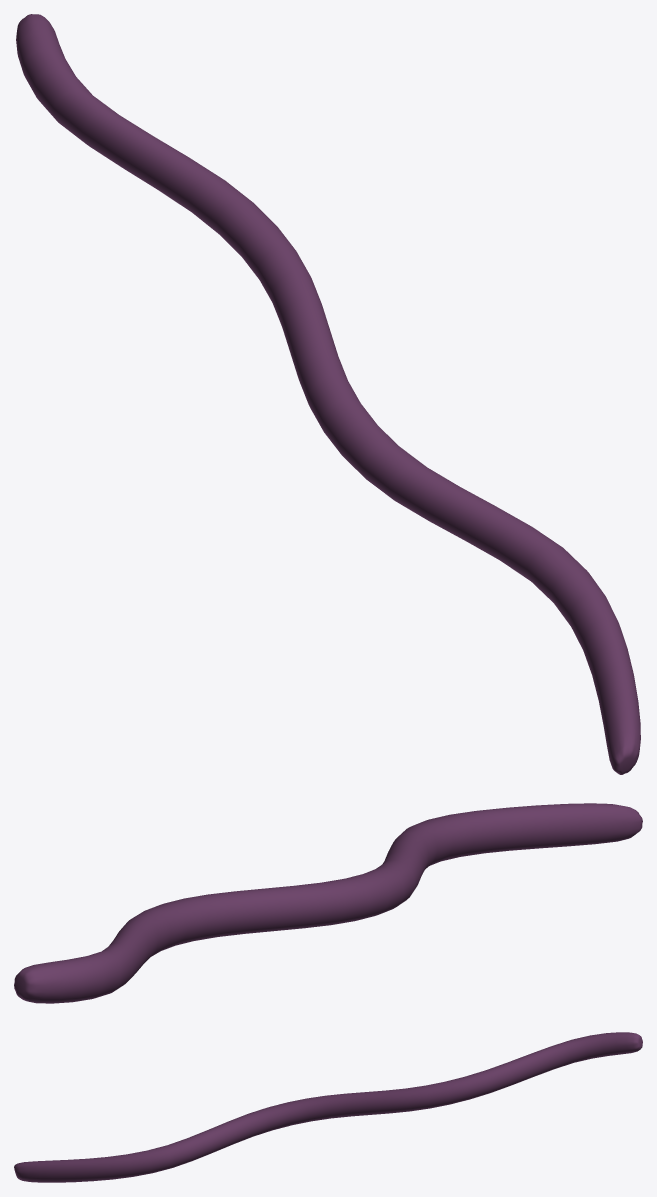
File: frame_8.obj
The picture shows the model from 3 angles, top to bottom: view 1: azimuth 30°, elevation 25°; view 2: azimuth 150°, elevation 25°; view 3: azimuth 270°, elevation 25°; orthographic projection. The views are drawn at different scales.
Parts seen in each view (by area): view 1: worm2; view 2: worm2; view 3: worm2.
Boxes of the visible parts, x1,y1,x2,y2 form: worm2: (16, 14, 640, 774); worm2: (14, 803, 642, 1003); worm2: (14, 1032, 642, 1182).
Bounding box in the file's own units: 175 × 456 × 1718.
